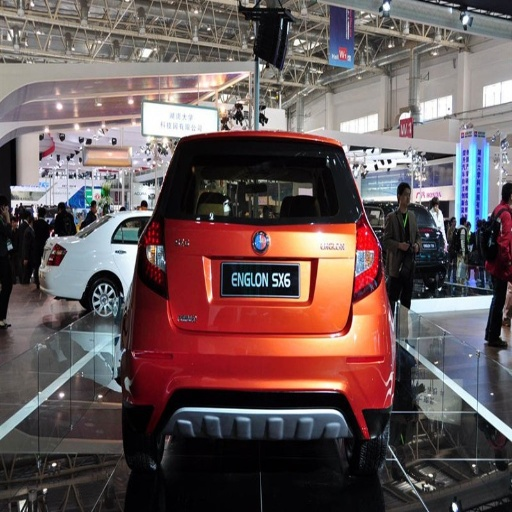back_bumper: (113, 279, 419, 478)
